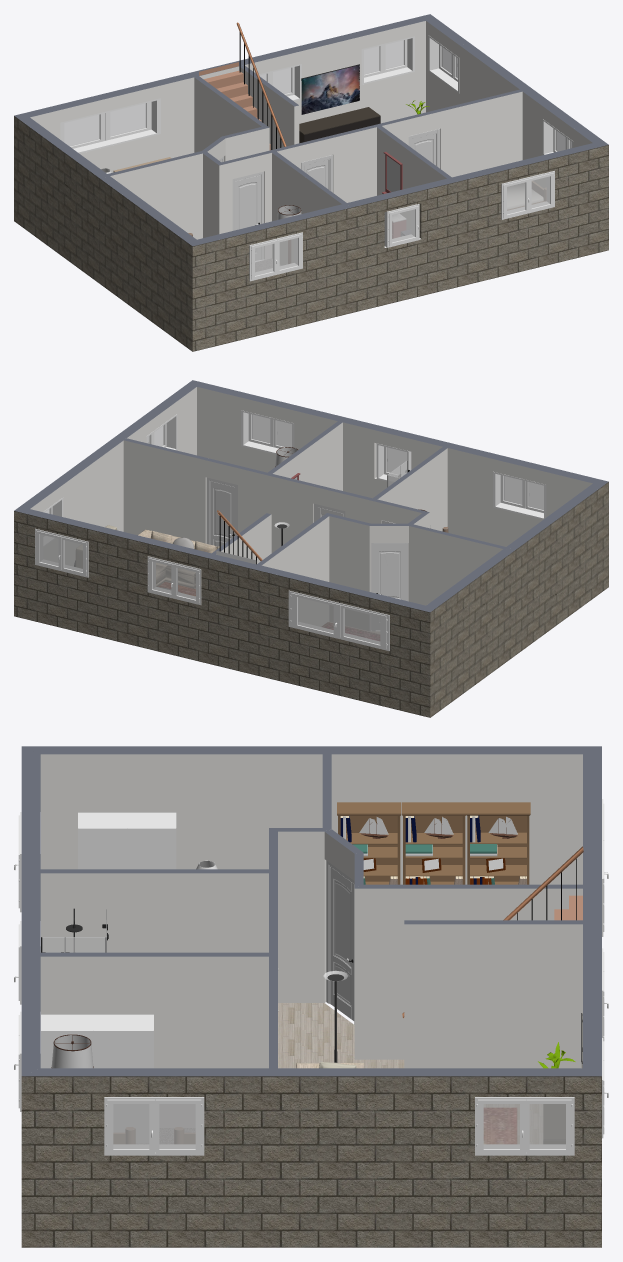
The model's file is maison-sousol.glb.
3 renders of one model, top to bottom at view 1: azimuth 30°, elevation 25°; view 2: azimuth 150°, elevation 25°; view 3: azimuth 270°, elevation 25°, orthographic. The views are drawn at different scales.
Parts seen in each view (by area): view 1: wall_0_3, wall_0_2, wall_0_5, p9_frame_34, p9_sweethome3d_window_pane_on_hinge_1_41, p1_Door_018_10, p7_Tech_items_072_29732_19, p0_1_1_2_5, p6_TV_Stand_105_9, p6_TV_Stand_105_107_10, p0_8, p27_Matelas_351; view 2: wall_0_3, wall_0_2, wall_0_5, p9_frame_34, p9_sweethome3d_window_pane_on_hinge_1_41, p1_Door_018_10, p5_1_1_1; view 3: wall_0_2, wall_0_3, wall_0_5, p21_Sails_99, p21_Bookcase_162, p9_frame_34, p9_sweethome3d_window_pane_on_hinge_1_41, room_0_1, p1_Door_018_10, p44_Floor_lamp_005_30068_476, p16_bottom_22, p37_Shower_094_14571_425 (+3 smaller).
Boxes of the visible parts, left/top/right/bottom form: wall_0_3: left=14, top=116, right=608, bottom=351; wall_0_2: left=30, top=21, right=592, bottom=265; wall_0_5: left=14, top=14, right=608, bottom=246; p9_frame_34: left=60, top=35, right=573, bottom=281; p9_sweethome3d_window_pane_on_hinge_1_41: left=64, top=40, right=571, bottom=275; p1_Door_018_10: left=219, top=128, right=440, bottom=260; p7_Tech_items_072_29732_19: left=301, top=65, right=359, bottom=114; p0_1_1_2_5: left=199, top=62, right=270, bottom=150; p6_TV_Stand_105_9: left=299, top=107, right=380, bottom=143; p6_TV_Stand_105_107_10: left=304, top=116, right=380, bottom=141; p0_8: left=239, top=32, right=281, bottom=149; p27_Matelas_351: left=507, top=183, right=543, bottom=209; wall_0_3: left=14, top=482, right=608, bottom=717; wall_0_2: left=30, top=387, right=592, bottom=630; wall_0_5: left=14, top=380, right=608, bottom=612; p9_frame_34: left=35, top=410, right=546, bottom=651; p9_sweethome3d_window_pane_on_hinge_1_41: left=39, top=414, right=543, bottom=644; p1_Door_018_10: left=206, top=477, right=408, bottom=630; p5_1_1_1: left=138, top=529, right=219, bottom=588; wall_0_2: left=40, top=754, right=582, bottom=1127; wall_0_3: left=21, top=1076, right=601, bottom=1247; wall_0_5: left=21, top=746, right=601, bottom=1076; p21_Sails_99: left=41, top=812, right=517, bottom=1143; p21_Bookcase_162: left=337, top=802, right=530, bottom=884; p9_frame_34: left=14, top=799, right=608, bottom=1155; p9_sweethome3d_window_pane_on_hinge_1_41: left=113, top=1104, right=565, bottom=1149; room_0_1: left=278, top=1003, right=542, bottom=1143; p1_Door_018_10: left=326, top=860, right=354, bottom=1020; p44_Floor_lamp_005_30068_476: left=51, top=1035, right=93, bottom=1068; p16_bottom_22: left=484, top=1108, right=516, bottom=1143; p37_Shower_094_14571_425: left=41, top=909, right=106, bottom=952.
Size of the model in its own units: 1043 by 356 by 787.
Materials: 72 (13 with a texture image).
